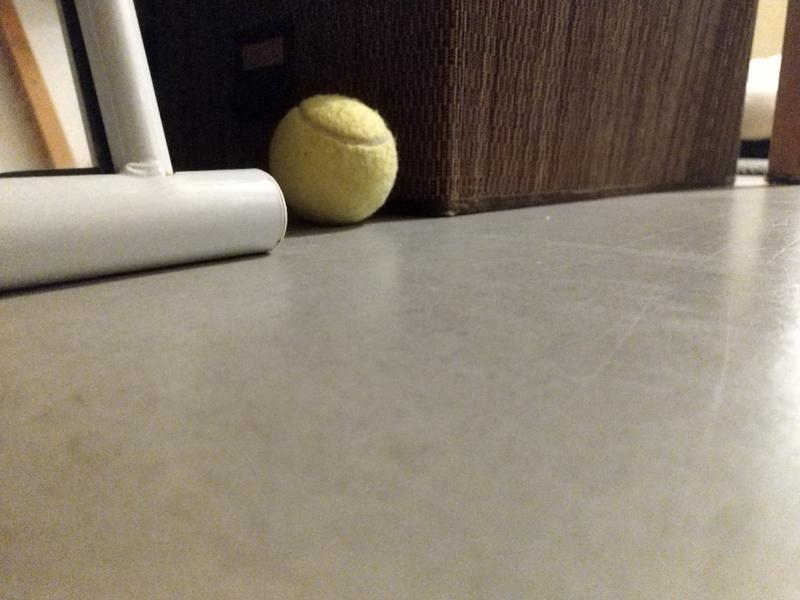Tennisball: (265, 90, 407, 228)
